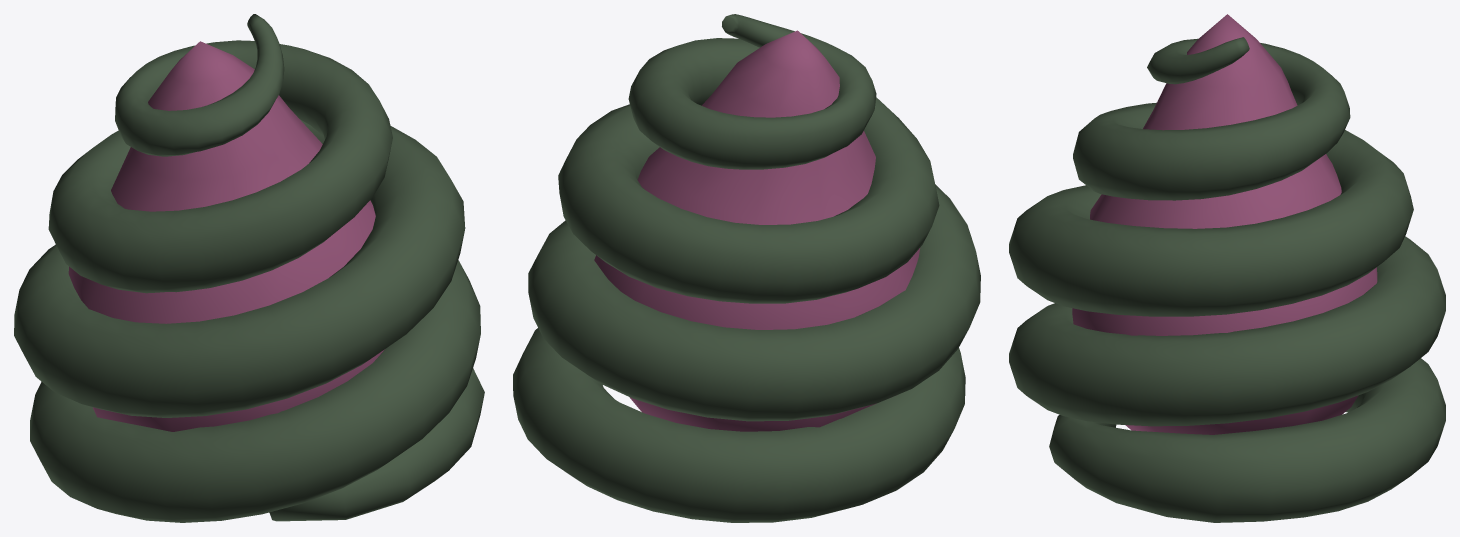
File: anim-bounceflowerCold.fbx
3 renders of one model, left to right at view 1: azimuth 30°, elevation 25°; view 2: azimuth 150°, elevation 25°; view 3: azimuth 270°, elevation 25°, orthographic. The views are drawn at different scales.
Parts seen in each view (by area): view 1: pSphere2; view 2: pSphere2; view 3: pSphere2.
Part boxes in pixels (box(x1,y1,x2,y2)): pSphere2: box(14, 14, 484, 522); pSphere2: box(513, 14, 980, 522); pSphere2: box(1009, 14, 1445, 522).
Size of the model in its own units: 138 by 141 by 132.
